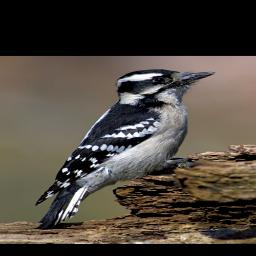Woodpecker: (34, 66, 217, 231)
